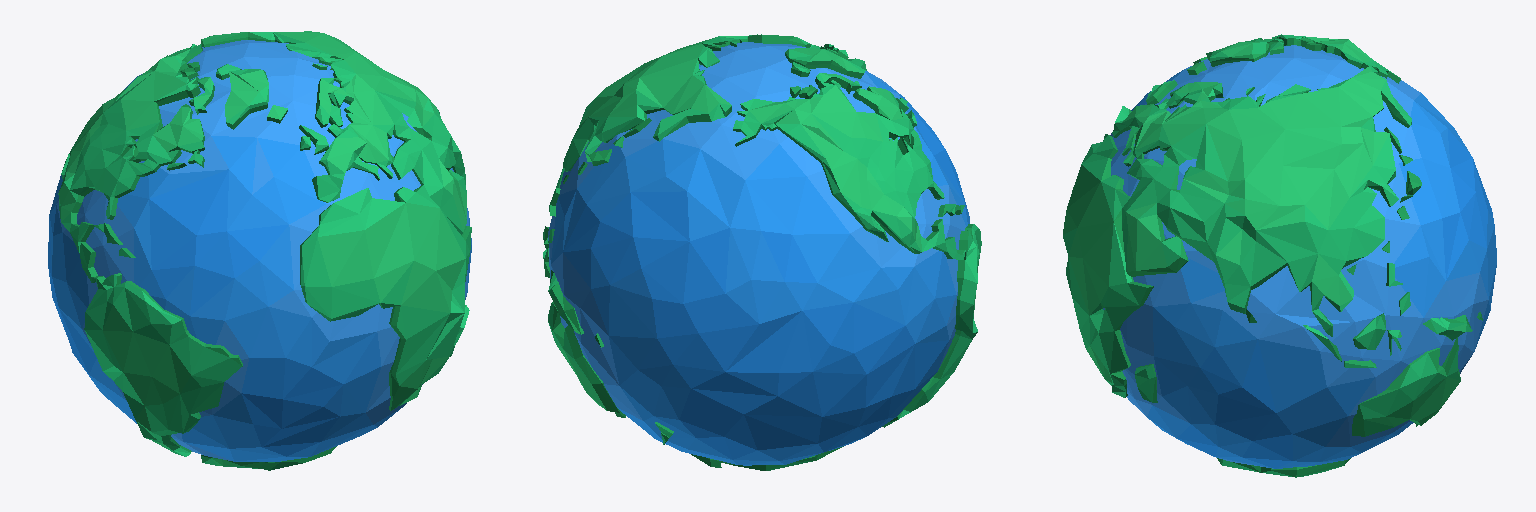
3 renders of one model, left to right at view 1: azimuth 30°, elevation 25°; view 2: azimuth 150°, elevation 25°; view 3: azimuth 270°, elevation 25°, orthographic.
Visible parts, largest first — view 1: flatEarth_lands, flatEarth_sea; view 2: flatEarth_sea, flatEarth_lands; view 3: flatEarth_lands, flatEarth_sea.
Part boxes in pixels (x1,y1,x2,y2): flatEarth_lands: (58,31,471,470); flatEarth_sea: (48,40,471,461); flatEarth_sea: (548,42,969,465); flatEarth_lands: (543,34,981,470); flatEarth_lands: (1063,34,1482,477); flatEarth_sea: (1103,45,1496,468).
Size of the model in its own units: 112 by 112 by 111.
Materials: 1 (1 with a texture image).